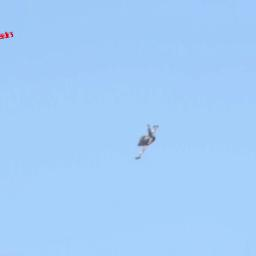Airplane: (132, 123, 161, 162)
